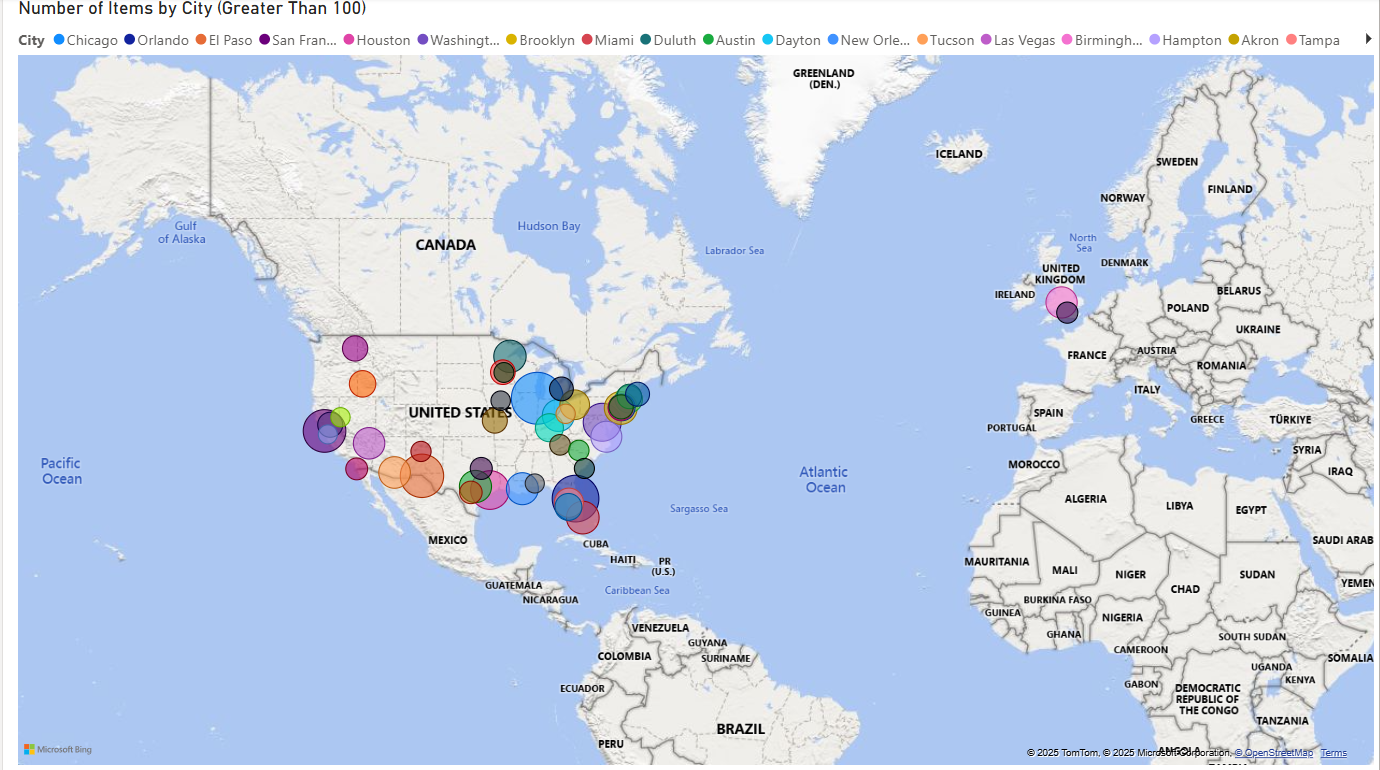

What the dashboard file says about the page in this screenshot:
{"tool":"powerbi","page":{"name":"Q5","canvas":[1280,720],"ordinal":4},"visuals":[{"type":"map","title":"Number of Items by City (Greater Than 100)","fields":{"Category":["CustomerDemographics_SalesData_.City"],"Size":["Sum(CustomerDemographics_SalesData_.number of items)"],"Series":["CustomerDemographics_SalesData_.City"]},"box":[9.3,0,1270.9,719.8],"z":0}]}

Visuals, with their boxes in screenshot pixels (x1, y1, x2, y2), scaled from the page's 1280x720 canvas onto the 1380x770 screenshot:
"Number of Items by City (Greater Than 100)" map: (left=10, top=0, right=1379, bottom=769)
